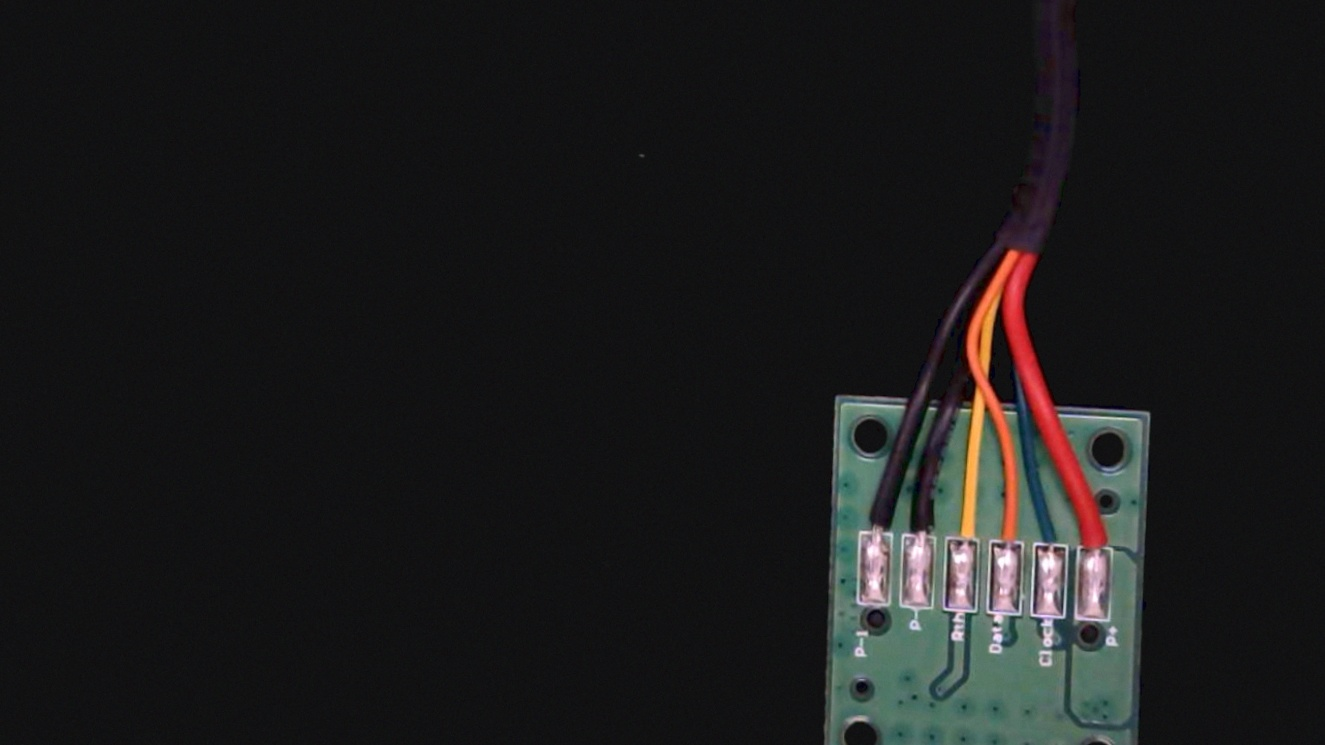Black: (904, 479, 941, 555)
Black1: (857, 471, 899, 550)
Green: (1030, 496, 1071, 565)
Orange: (989, 491, 1029, 560)
Red: (1079, 490, 1118, 564)
Yellow: (943, 483, 985, 560)
